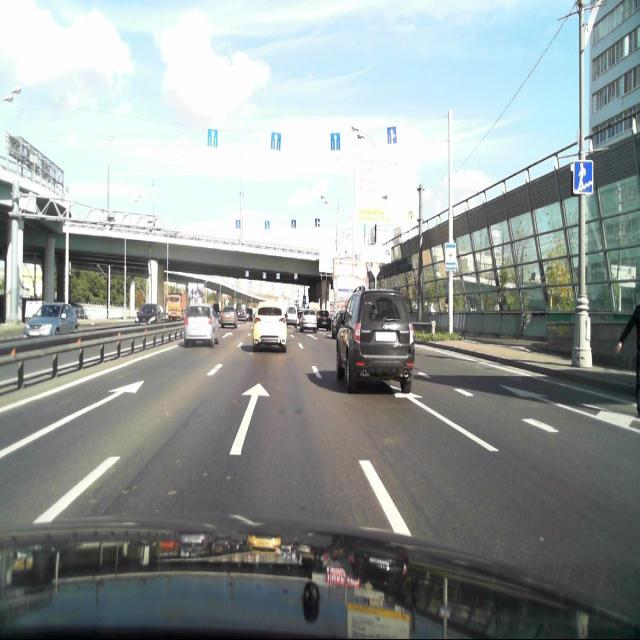road sign: (572, 159, 594, 196), (330, 130, 342, 153), (207, 129, 219, 150), (387, 125, 398, 146), (270, 130, 280, 149)
